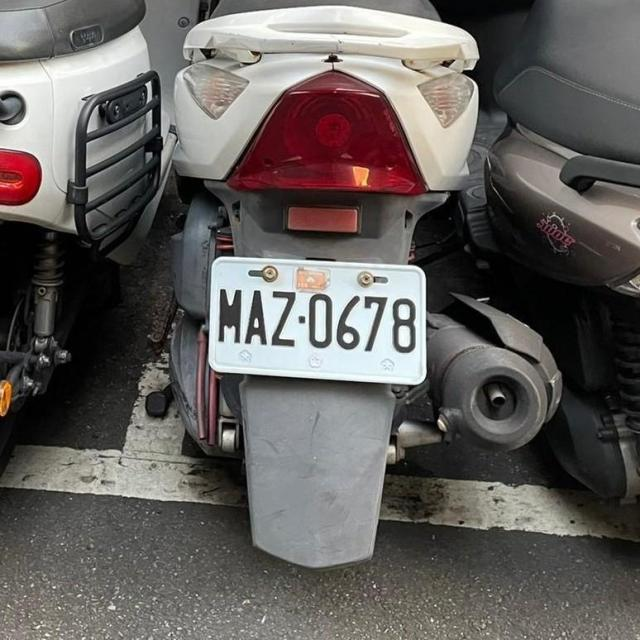W: (203, 251, 430, 387)
